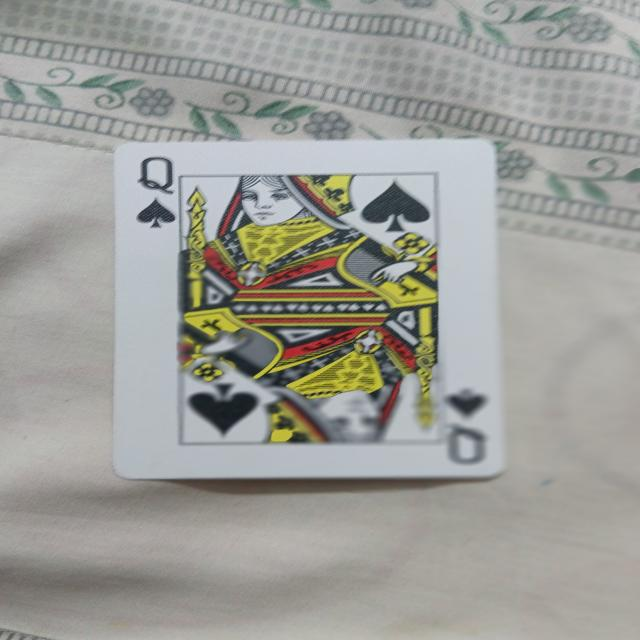QS: (109, 138, 507, 480)
